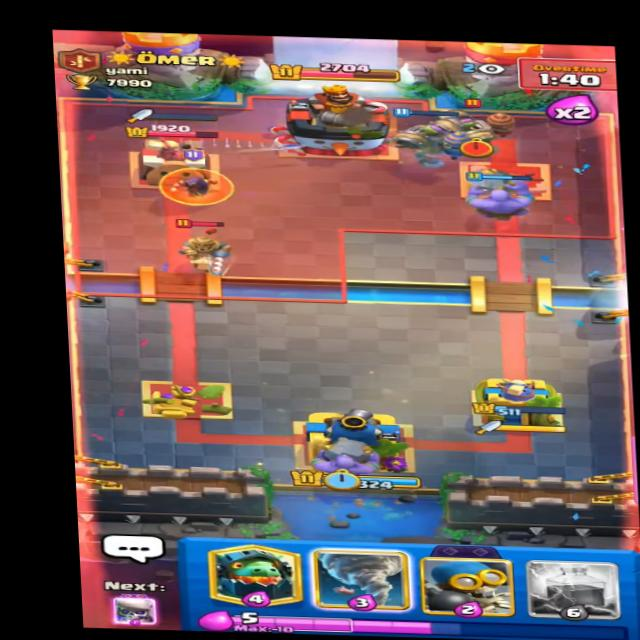evo-wizard: (160, 156, 245, 217)
goblin-machine: (426, 95, 528, 165)
prince: (173, 216, 231, 276)
